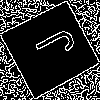J: (25, 24, 78, 69)
